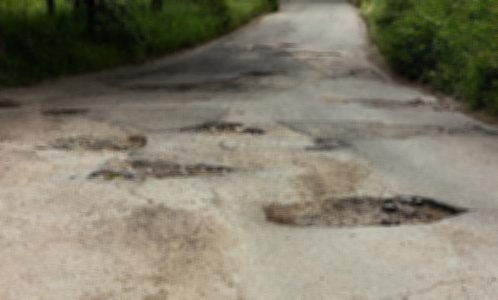pothole: (260, 193, 468, 229), (86, 156, 236, 183), (48, 134, 145, 154), (177, 121, 265, 135), (302, 136, 350, 153), (37, 106, 87, 116), (274, 51, 342, 57), (239, 70, 289, 78), (0, 97, 22, 106)
